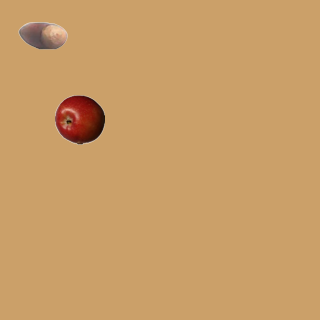Apple Braeburn: (54, 94, 104, 144)
Hazelnut: (17, 10, 67, 60)
